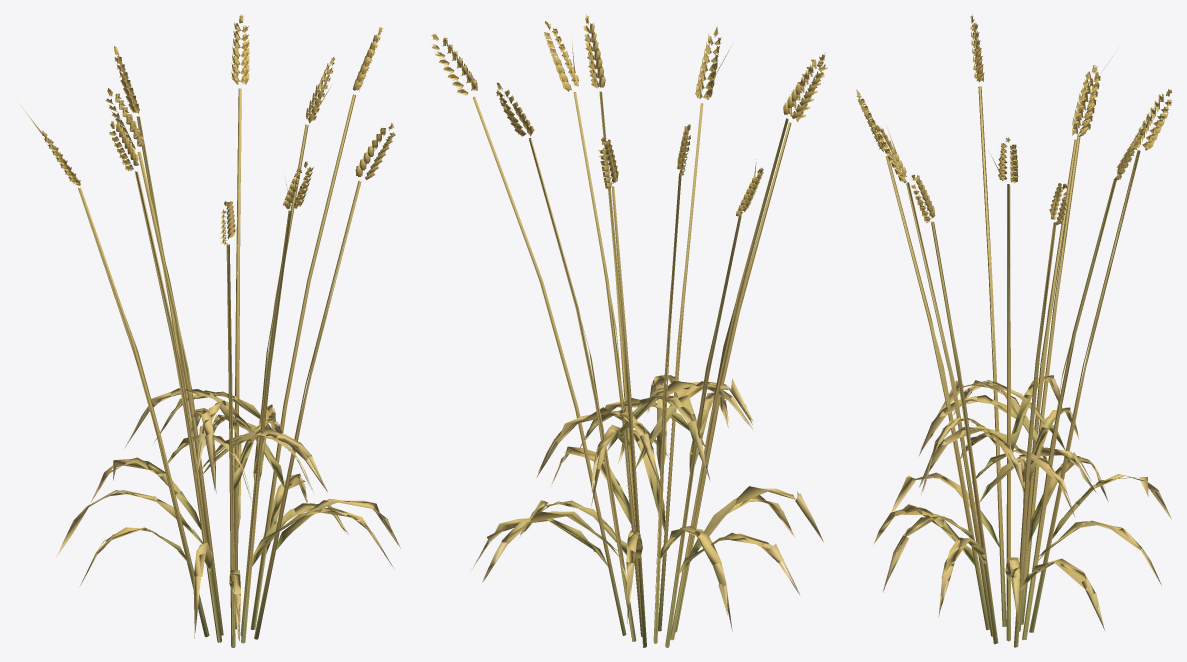
Rendered from spatial-wheat.glb.
The picture shows the model from 3 angles, left to right: view 1: azimuth 30°, elevation 25°; view 2: azimuth 150°, elevation 25°; view 3: azimuth 270°, elevation 25°; orthographic projection. The views are drawn at different scales.
Parts seen in each view (by area): view 1: Wheat · ripe clump; view 2: Wheat · ripe clump; view 3: Wheat · ripe clump.
Boxes of the visible parts, bbox=[...] form: Wheat · ripe clump: bbox=[16, 14, 400, 647]; Wheat · ripe clump: bbox=[431, 14, 827, 647]; Wheat · ripe clump: bbox=[856, 14, 1171, 647].
Bounding box in the file's own units: 0.5834 × 0.9345 × 0.4835.
Materials: 1 (1 with a texture image).
